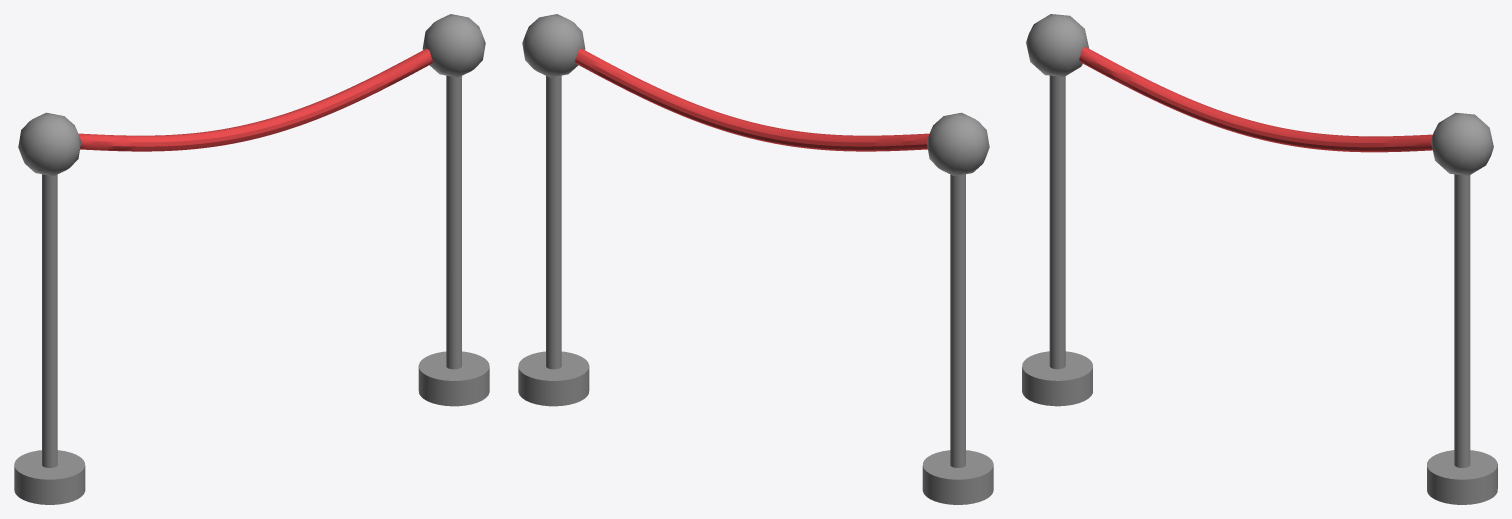
Rendered from engel (1).fbx.
The picture shows the model from 3 angles, left to right: view 1: azimuth 30°, elevation 25°; view 2: azimuth 150°, elevation 25°; view 3: azimuth 330°, elevation 25°; orthographic projection.
Parts seen in each view (by area): view 1: engel; view 2: engel; view 3: engel.
Boxes of the visible parts, <box> form: engel: <box>14,14,489,504</box>; engel: <box>518,14,993,504</box>; engel: <box>1022,14,1497,504</box>.
Bounding box in the file's own units: 435 × 334 × 57.35.
